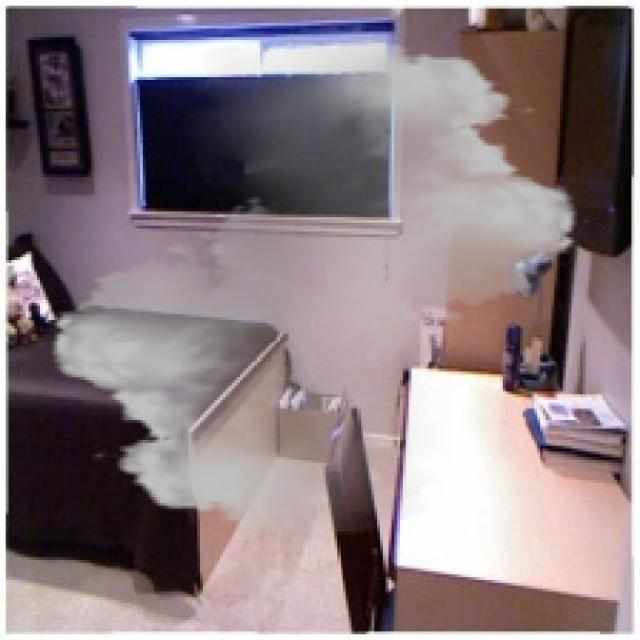smoke: (34, 26, 594, 540)
